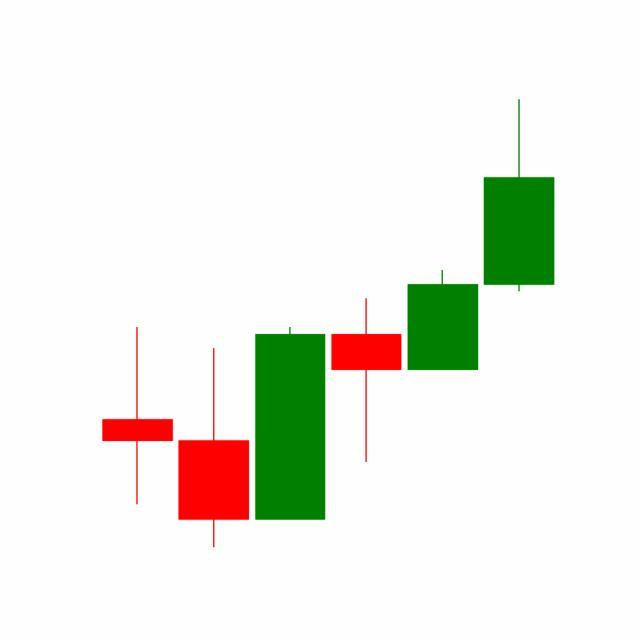Marubozu: (404, 269, 482, 372)
